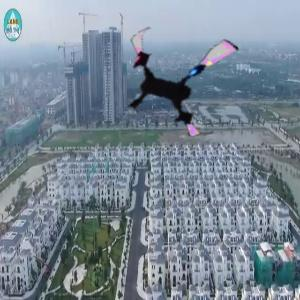drone: (114, 13, 247, 146)
